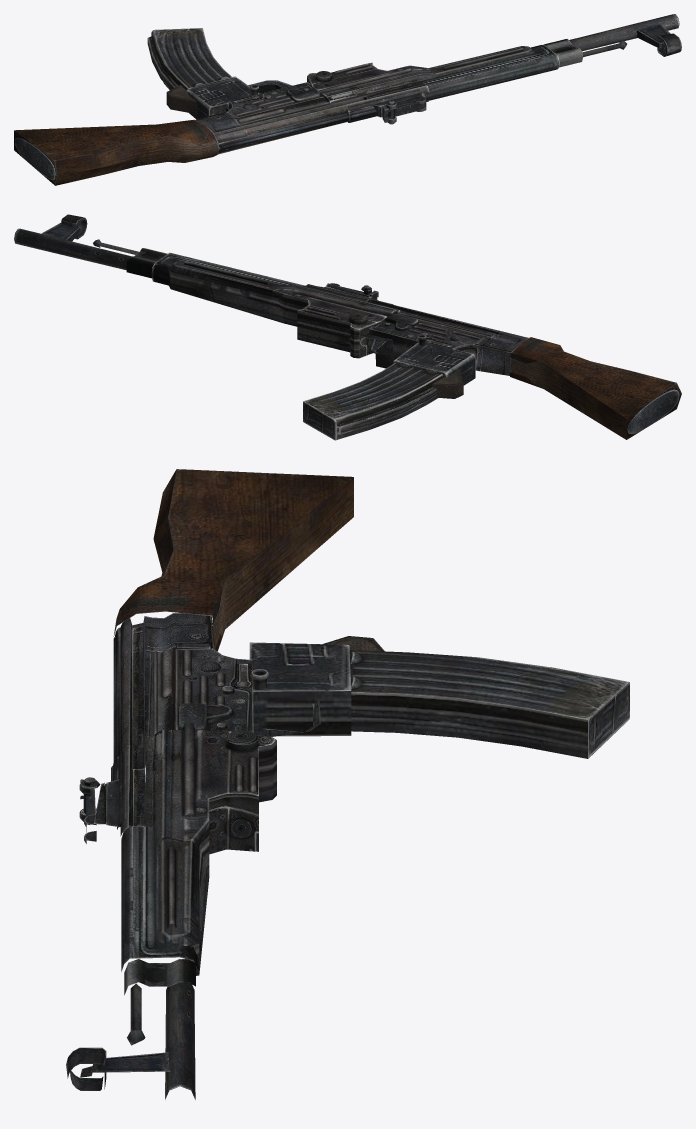
Rendered from viewmodel_mp44.glb.
The picture shows the model from 3 angles, top to bottom: view 1: azimuth 30°, elevation 25°; view 2: azimuth 150°, elevation 25°; view 3: azimuth 270°, elevation 25°; orthographic projection. The views are drawn at different scales.
Bounding box in the file's own units: 37.5 × 1.86 × 14.7.
1 material, 1 textured.
